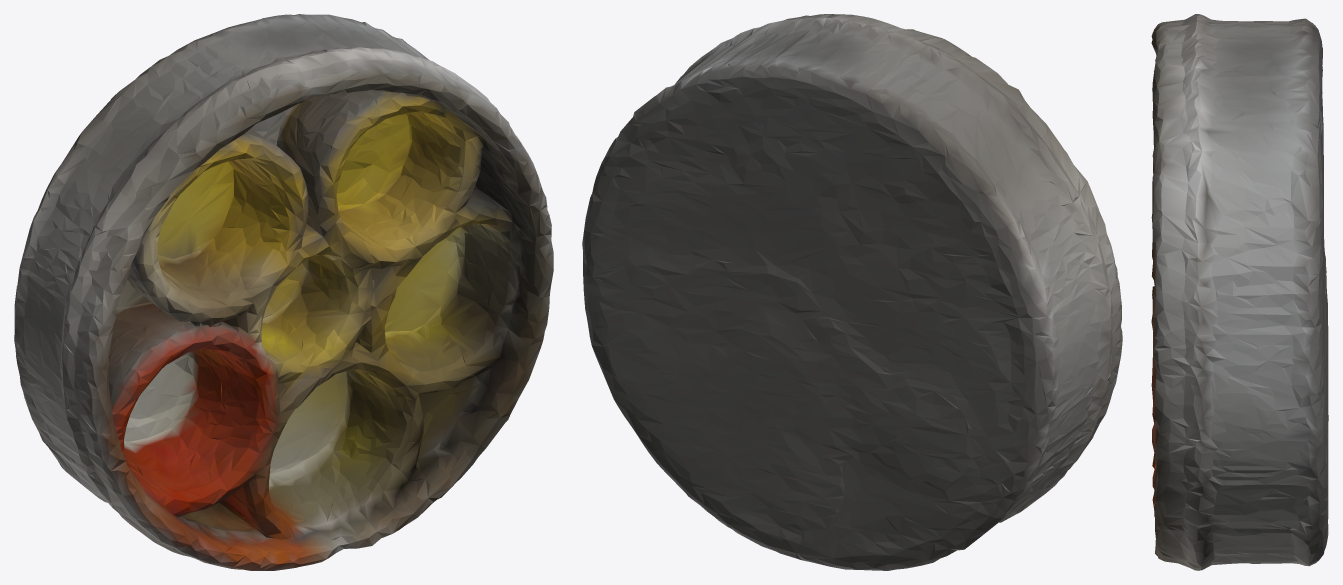
Rendered from spice_box_1.glb.
The picture shows the model from 3 angles, left to right: view 1: azimuth 30°, elevation 25°; view 2: azimuth 150°, elevation 25°; view 3: azimuth 270°, elevation 25°; orthographic projection.
Visible parts, largest first — view 1: geometry_0; view 2: geometry_0; view 3: geometry_0.
Boxes of the visible parts, x1=… form: geometry_0: x1=14, y1=14, x2=553, y2=570; geometry_0: x1=582, y1=14, x2=1122, y2=570; geometry_0: x1=1151, y1=14, x2=1328, y2=570.
Bounding box in the file's own units: 1 × 0.9992 × 0.3178.
